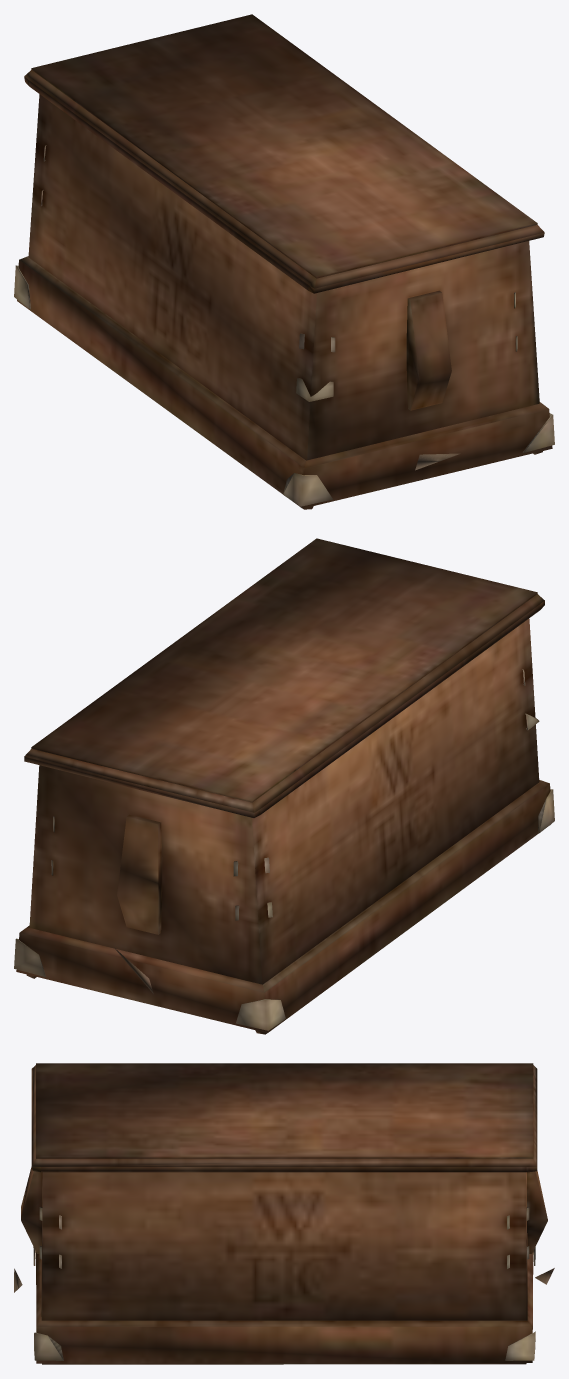
Rendered from wooden_crate_02.glb.
3 renders of one model, top to bottom at view 1: azimuth 30°, elevation 25°; view 2: azimuth 150°, elevation 25°; view 3: azimuth 270°, elevation 25°, orthographic. The views are drawn at different scales.
Visible parts, largest first — view 1: wooden_crate_02_crate, wooden_crate_02_lid; view 2: wooden_crate_02_crate, wooden_crate_02_lid; view 3: wooden_crate_02_crate, wooden_crate_02_lid.
Boxes of the visible parts, x1,y1,x2,y2 form: wooden_crate_02_crate: (14,94,554,509); wooden_crate_02_lid: (24,14,544,293); wooden_crate_02_crate: (14,618,554,1034); wooden_crate_02_lid: (24,538,544,817); wooden_crate_02_crate: (14,1167,554,1364); wooden_crate_02_lid: (31,1063,537,1172).
Size of the model in its own units: 0.5291 by 0.4628 by 1.11.
1 material, 1 textured.
